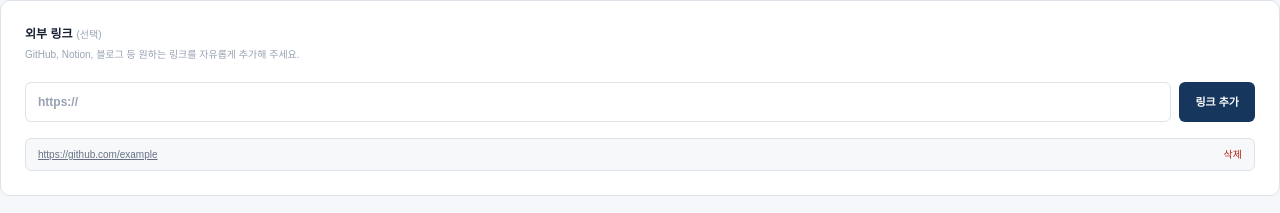
Test: ResumeLinksSection › 삭제 버튼을 누르면 목록에서 제거된다
The width and height of the screenshot is (1280, 213).
Click the button "삭제": (1233, 154) [1224,147,1242,162]
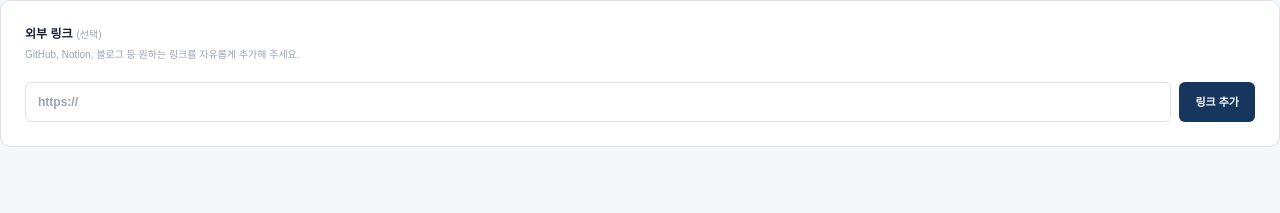
Now the link "https://github.com/example" is gone
